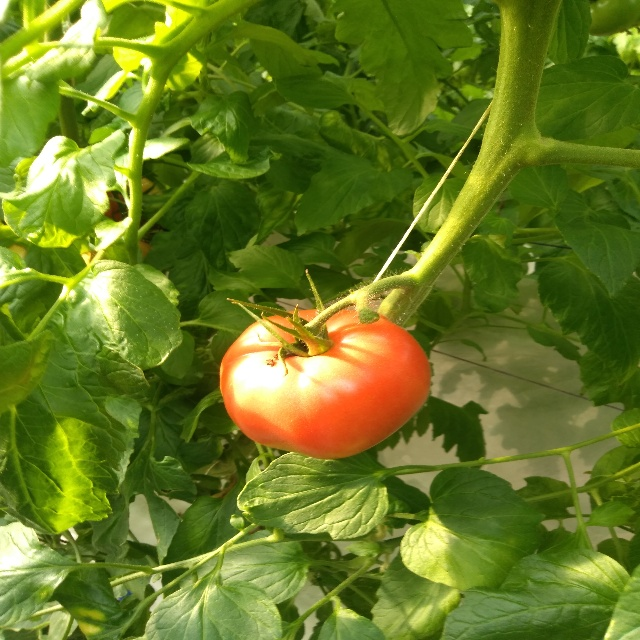b_fully_ripened: (218, 308, 432, 460)
